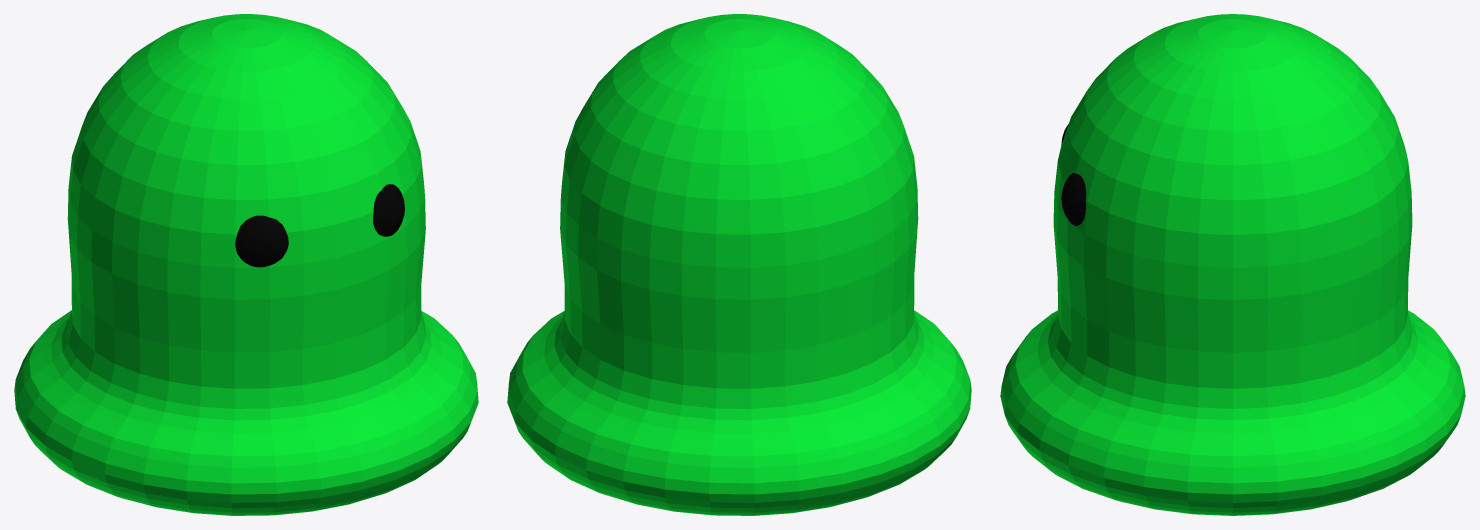
Rendered from Slime - Copy.fbx.
3 views of the same model, side by side, from view 1: azimuth 30°, elevation 25°; view 2: azimuth 150°, elevation 25°; view 3: azimuth 270°, elevation 25° (orthographic).
Parts seen in each view (by area): view 1: Sphere.002; view 2: Sphere.002; view 3: Sphere.002.
Boxes of the visible parts, x1,y1,x2,y2 form: Sphere.002: (14,14,478,515); Sphere.002: (507,14,971,515); Sphere.002: (1000,14,1465,515).
Bounding box in the file's own units: 287 × 272 × 287.
